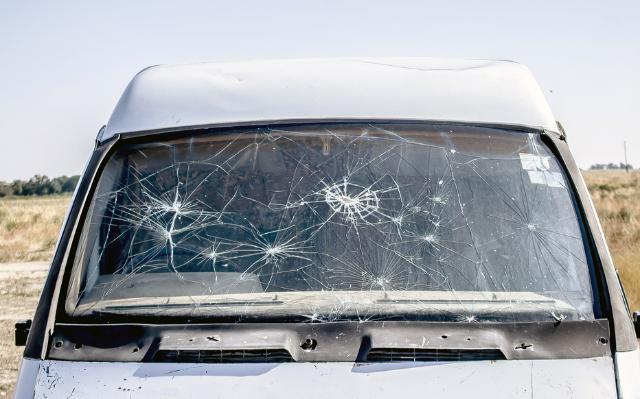Windshield: (73, 122, 607, 339)
